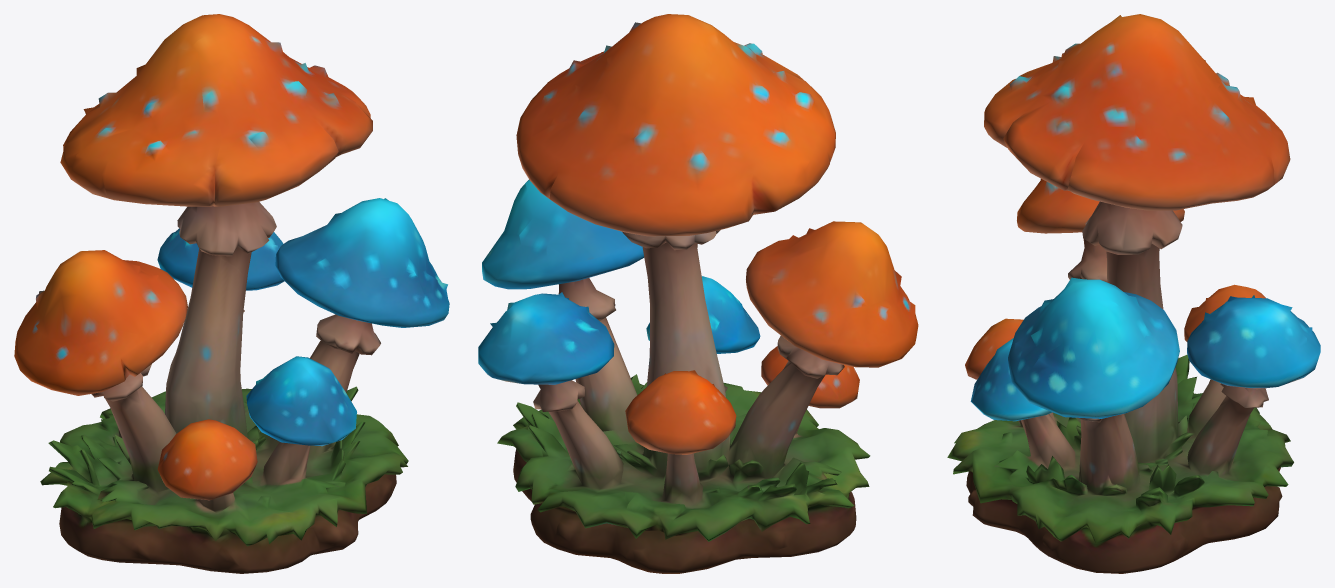
The model's file is Hongos.glb.
3 renders of one model, left to right at view 1: azimuth 30°, elevation 25°; view 2: azimuth 150°, elevation 25°; view 3: azimuth 270°, elevation 25°, orthographic. The views are drawn at different scales.
Parts seen in each view (by area): view 1: Hongos; view 2: Hongos; view 3: Hongos.
Part boxes in pixels (x1=…): Hongos: x1=14, y1=14, x2=449, y2=573; Hongos: x1=478, y1=14, x2=918, y2=573; Hongos: x1=947, y1=14, x2=1320, y2=573.
Bounding box in the file's own units: 0.2508 × 0.2892 × 0.2013.
Materials: 1 (1 with a texture image).
